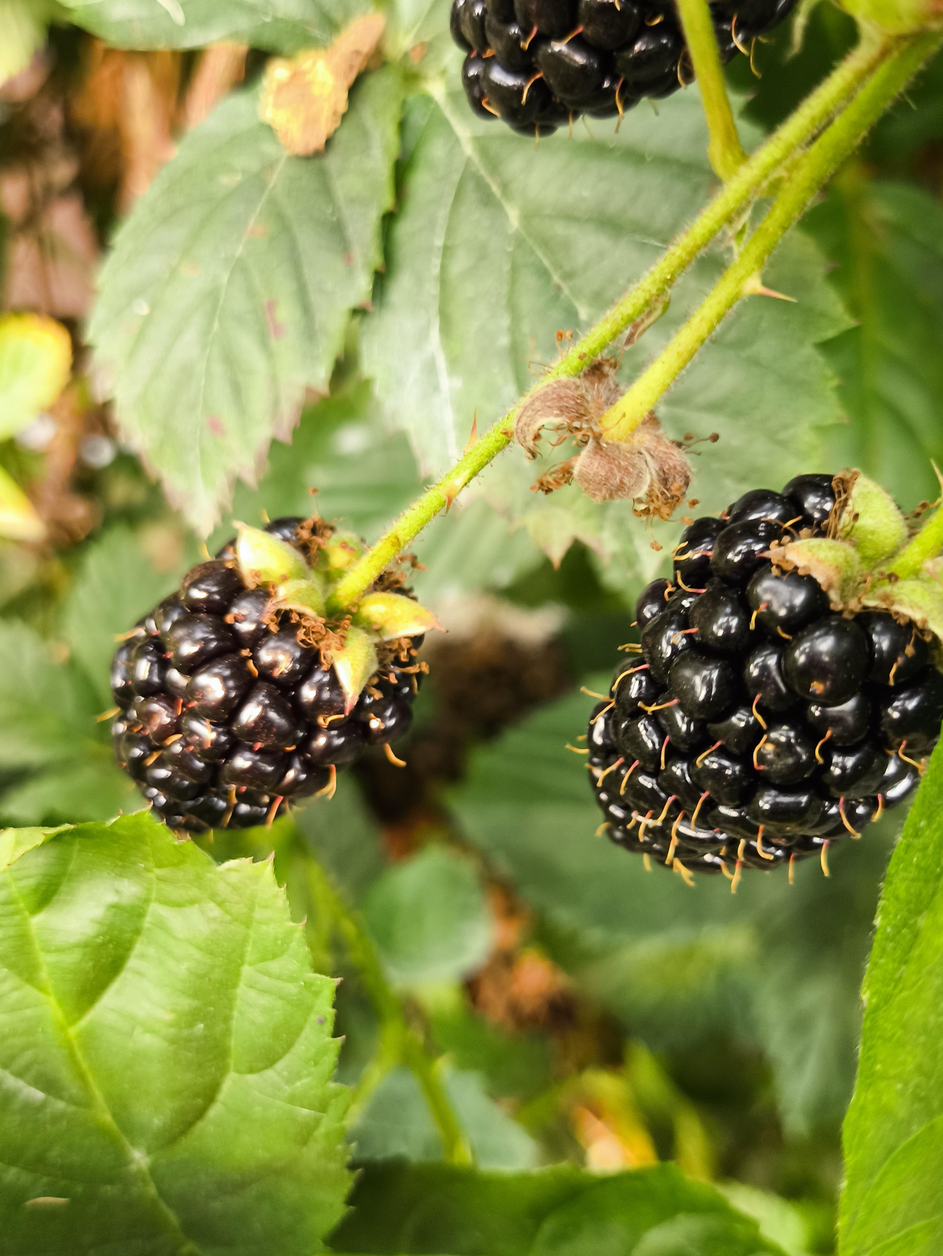maduro: (596, 466, 943, 868), (117, 519, 421, 827)
zarzamora: (450, 0, 692, 134), (710, 0, 794, 62)
